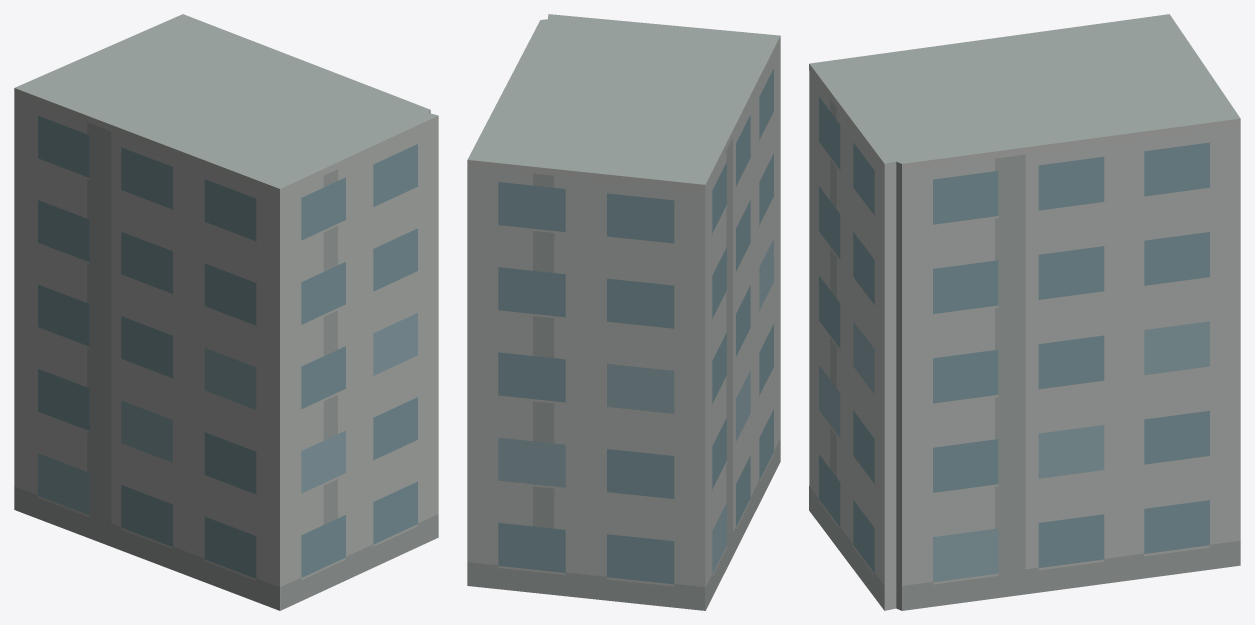
The model's file is survey-upis-32989314.glb.
3 renders of one model, left to right at view 1: azimuth 30°, elevation 25°; view 2: azimuth 150°, elevation 25°; view 3: azimuth 270°, elevation 25°, orthographic. The views are drawn at different scales.
Parts seen in each view (by area): view 1: survey-upis-32989314.tmp; view 2: survey-upis-32989314.tmp; view 3: survey-upis-32989314.tmp.
Boxes of the visible parts, x1,y1,x2,y2 form: survey-upis-32989314.tmp: [14, 14, 438, 610]; survey-upis-32989314.tmp: [467, 14, 780, 610]; survey-upis-32989314.tmp: [809, 14, 1240, 610].
Bounding box in the file's own units: 10.98 × 15.25 × 13.35.
